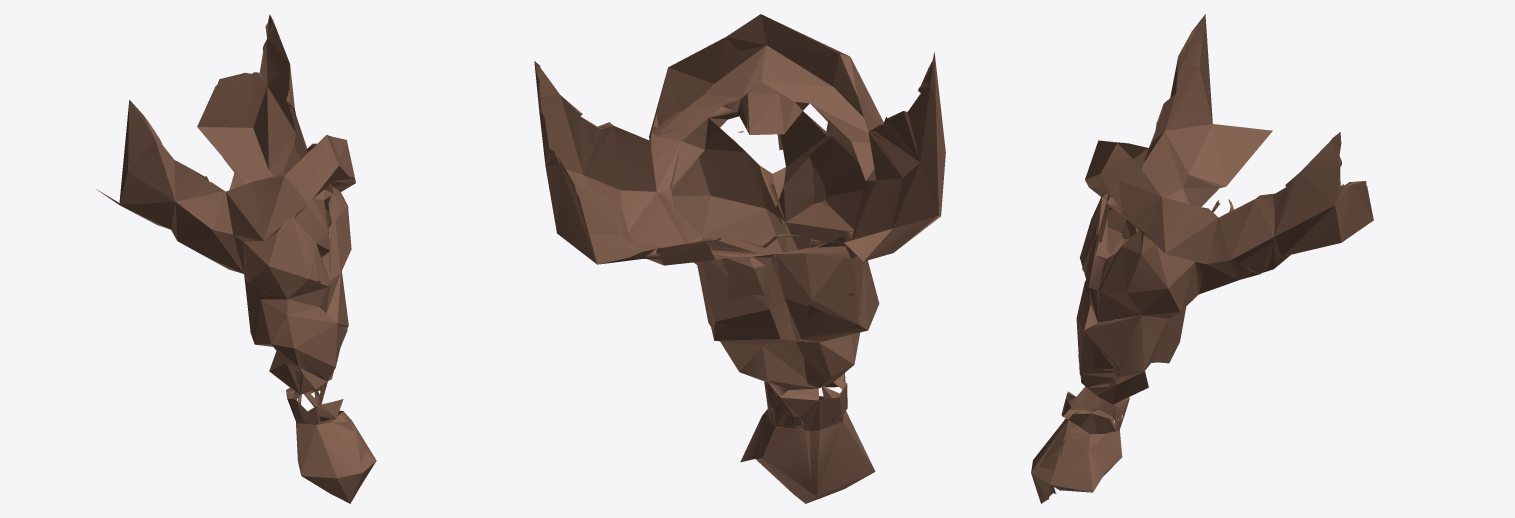
The model's file is Beard_braid_LOD2.glb.
3 renders of one model, left to right at view 1: azimuth 30°, elevation 25°; view 2: azimuth 150°, elevation 25°; view 3: azimuth 270°, elevation 25°, orthographic. The views are drawn at different scales.
Visible parts, largest first — view 1: Beard_braid_LOD2; view 2: Beard_braid_LOD2; view 3: Beard_braid_LOD2.
Boxes of the visible parts, x1=… form: Beard_braid_LOD2: x1=96, y1=14, x2=376, y2=503; Beard_braid_LOD2: x1=534, y1=14, x2=945, y2=503; Beard_braid_LOD2: x1=1031, y1=14, x2=1373, y2=503.
Size of the model in its own units: 0.2749 by 0.2838 by 0.292.
